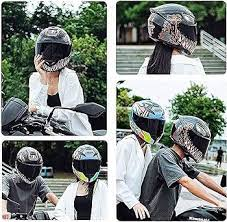helmets: (141, 1, 197, 61), (22, 22, 75, 77), (165, 115, 215, 167), (121, 99, 163, 144), (10, 143, 47, 188), (67, 142, 101, 188)
